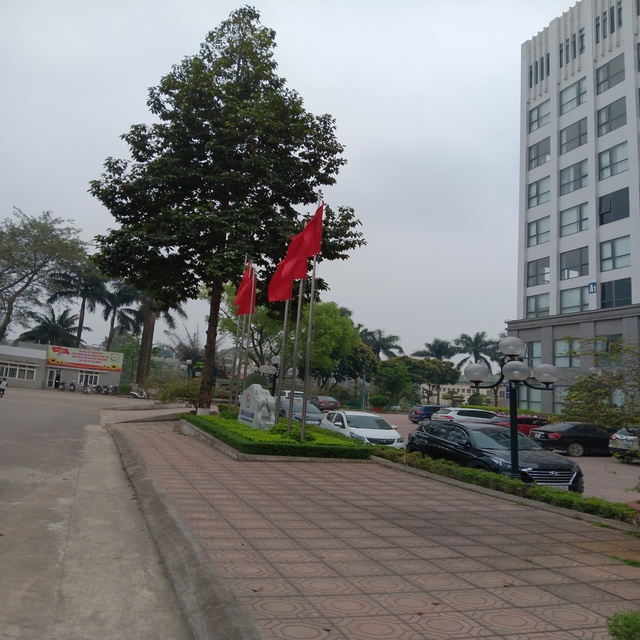cotden: (462, 328, 561, 486), (257, 347, 301, 418)
